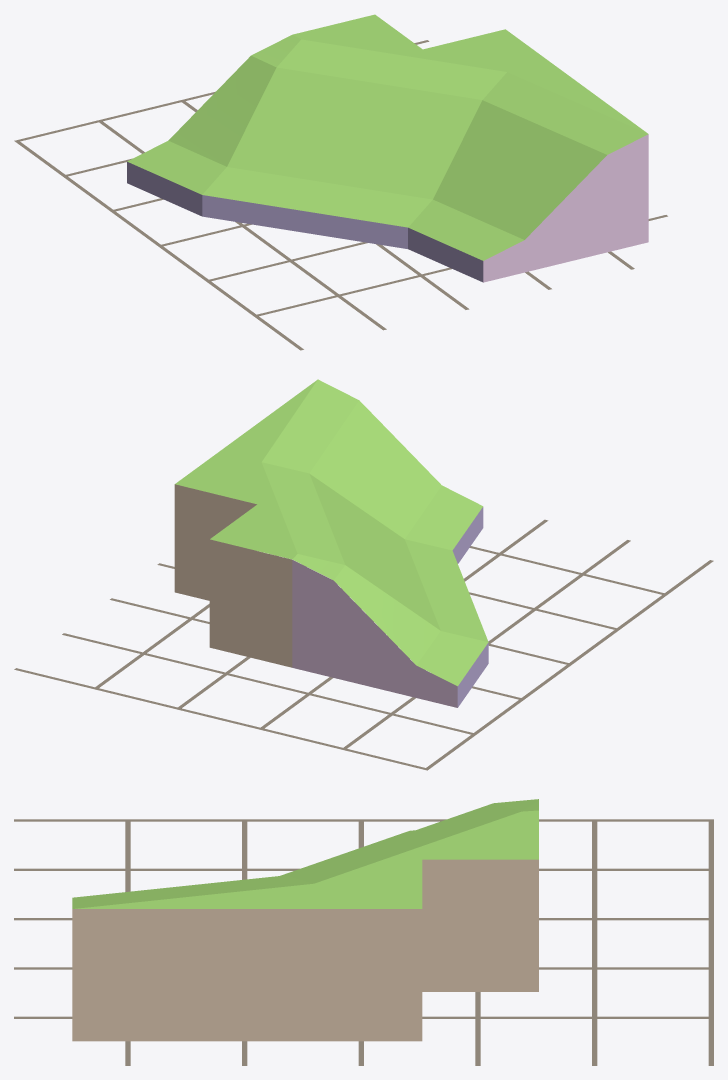
Rendered from Grass_Hill_Sharp_Esse_4x4.glb.
3 renders of one model, top to bottom at view 1: azimuth 30°, elevation 25°; view 2: azimuth 150°, elevation 25°; view 3: azimuth 270°, elevation 25°, orthographic. The views are drawn at different scales.
Parts seen in each view (by area): view 1: Grass_Hill_Sharp_Esse_4x4, Floor; view 2: Grass_Hill_Sharp_Esse_4x4, Floor; view 3: Grass_Hill_Sharp_Esse_4x4, Floor.
Boxes of the visible parts, x1,y1,x2,y2 form: Grass_Hill_Sharp_Esse_4x4: (127, 14, 648, 282); Floor: (14, 40, 667, 350); Grass_Hill_Sharp_Esse_4x4: (174, 379, 488, 707); Floor: (14, 519, 713, 770); Grass_Hill_Sharp_Esse_4x4: (72, 799, 538, 1041); Floor: (14, 819, 713, 1065).
Size of the model in its own units: 500 by 125 by 600.
6 materials, 1 textured.
